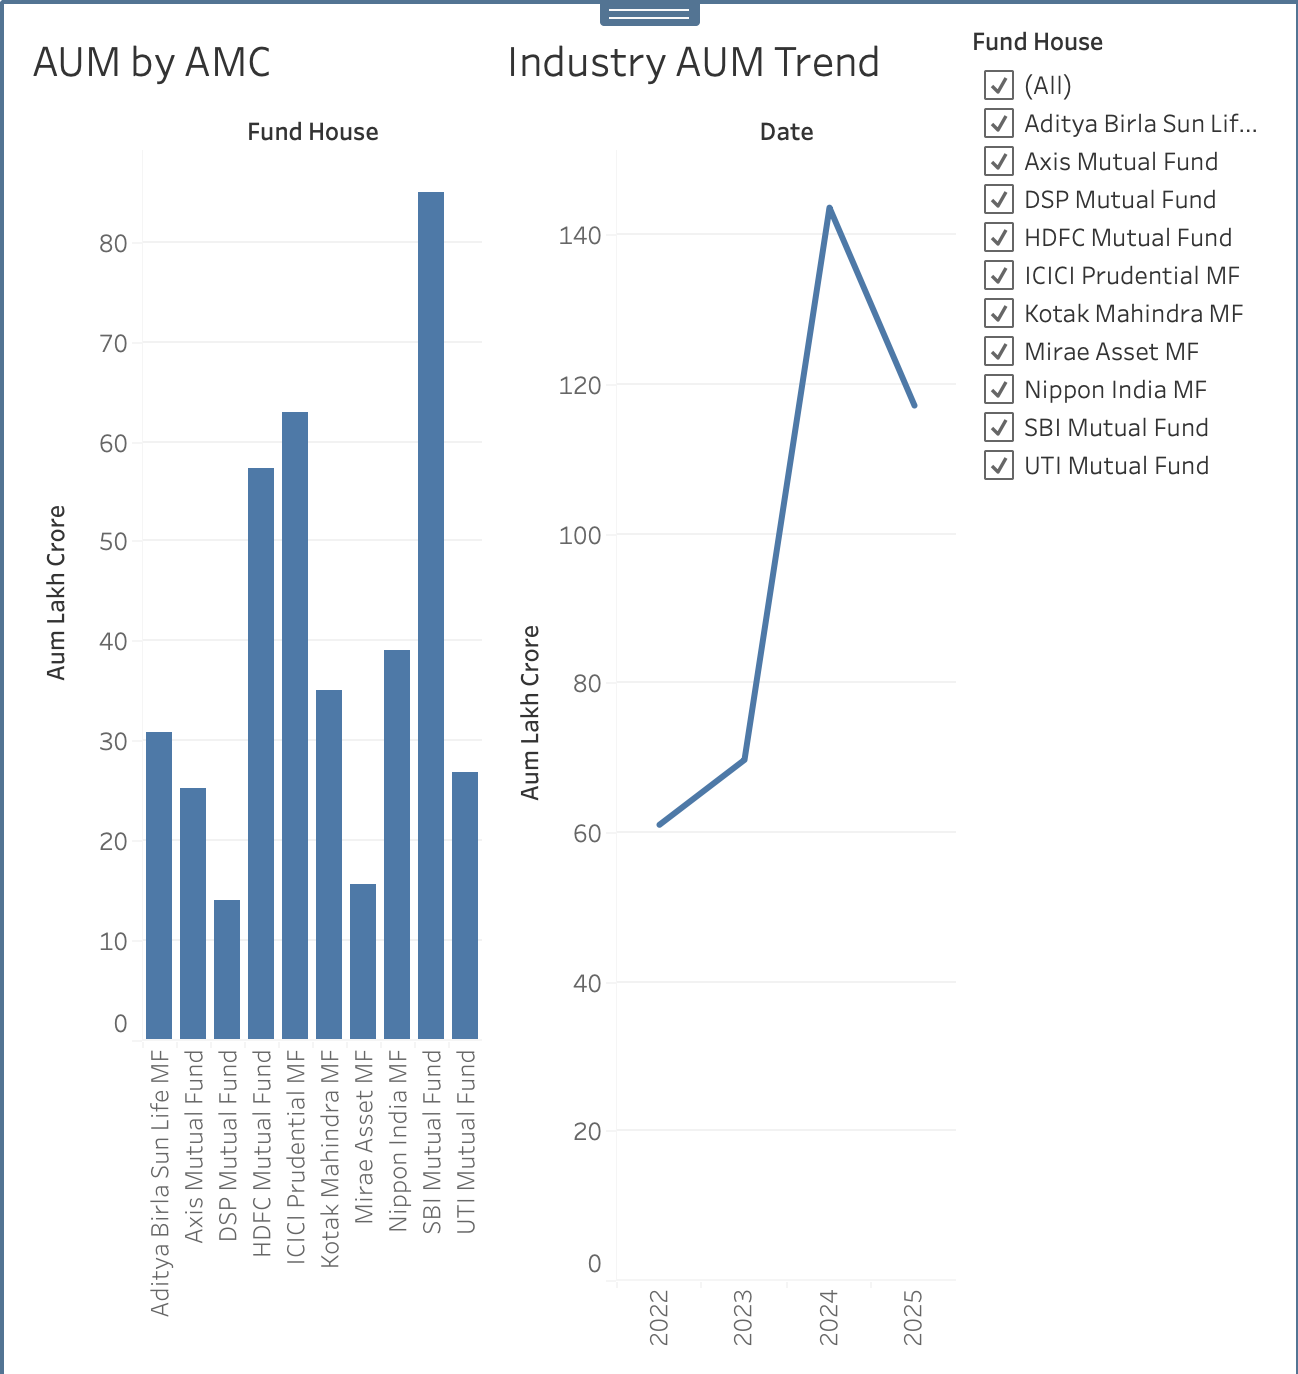

Layout of this report page (visuals, bound fields, positions):
{"tool":"tableau","page":{"name":"Industry Overview","canvas":[650,860],"ordinal":1},"visuals":[{"type":"worksheet","title":"AUM by AMC","mark":"Automatic","rows":["aum_lakh_crore"],"cols":["fund_house"],"box":[8,9.9,237,840.1]},{"type":"worksheet","title":"Industry AUM Trend","mark":"Automatic","rows":["aum_lakh_crore"],"cols":["date"],"box":[245,9.9,237,840.1]},{"type":"filter","title":"AUM by AMC","param":"[federated.09z8w6i11hp4gm1472own025srxp].[none:fund_house:nk]","box":[482,9.9,160,299.5]}]}

Visuals, with their boxes on the page's 650x860 design canvas (x1, y1, x2, y2). These are canvas units, not pixel positions in the 1298x1374 screenshot, which may show the page scaled, cropped or inside an application window:
"AUM by AMC" worksheet: x1=8 y1=10 x2=245 y2=850
"Industry AUM Trend" worksheet: x1=245 y1=10 x2=482 y2=850
"AUM by AMC" filter: x1=482 y1=10 x2=642 y2=309
